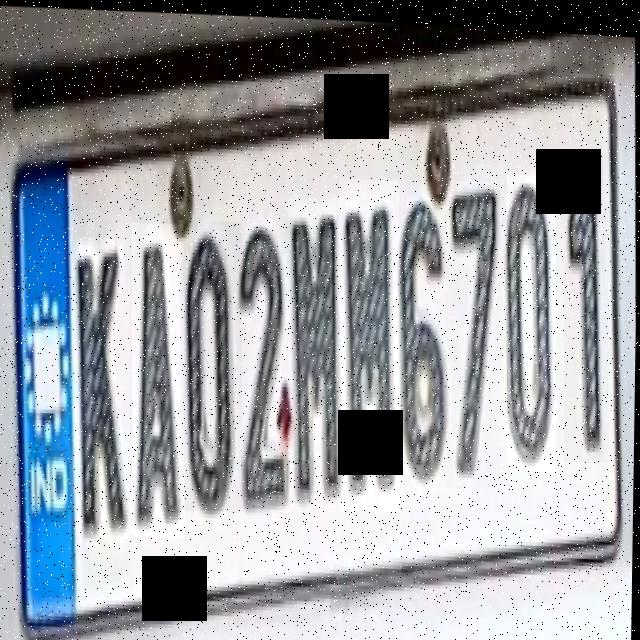0: (177, 217, 247, 511), (503, 166, 562, 467)
1: (559, 145, 614, 458)
6: (392, 176, 457, 488)
7: (441, 167, 505, 485)
A: (128, 220, 190, 536)
K: (64, 235, 135, 538)
M: (336, 172, 406, 508), (284, 192, 348, 505)
